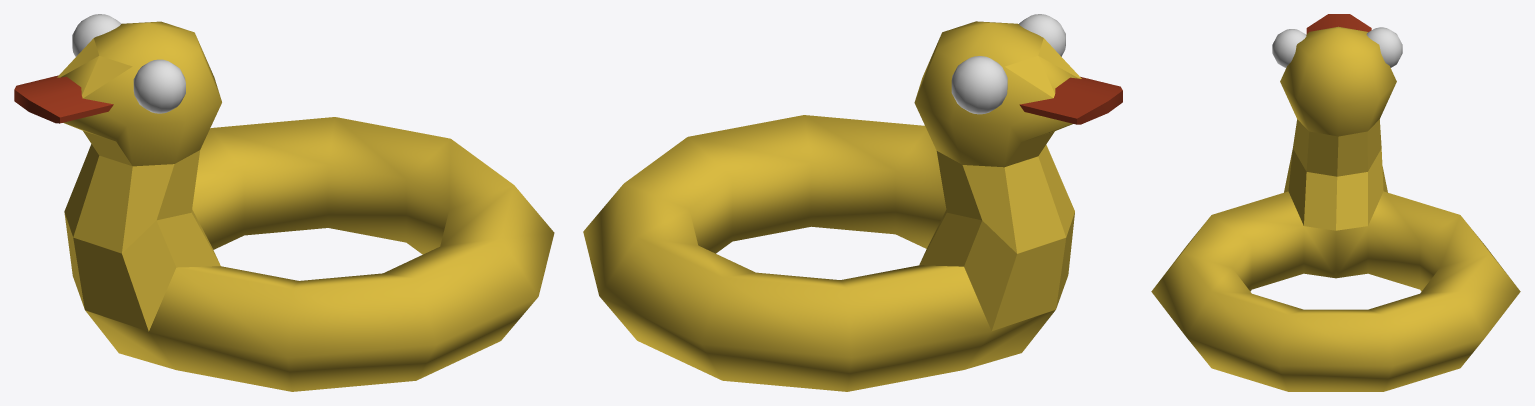
The model's file is RubberDuck.FBX.
3 views of the same model, side by side, from view 1: azimuth 30°, elevation 25°; view 2: azimuth 150°, elevation 25°; view 3: azimuth 270°, elevation 25° (orthographic). The views are drawn at different scales.
Parts seen in each view (by area): view 1: rubberduck1; view 2: rubberduck1; view 3: rubberduck1.
Part boxes in pixels (left/top/right/bottom): rubberduck1: left=14, top=14, right=554, bottom=391; rubberduck1: left=583, top=14, right=1122, bottom=391; rubberduck1: left=1151, top=14, right=1520, bottom=391.
Size of the model in its own units: 6.44 by 4.02 by 5.58.
